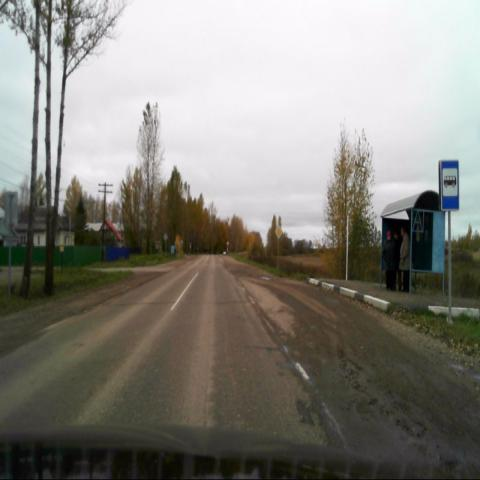5_16: (439, 158, 460, 212)
